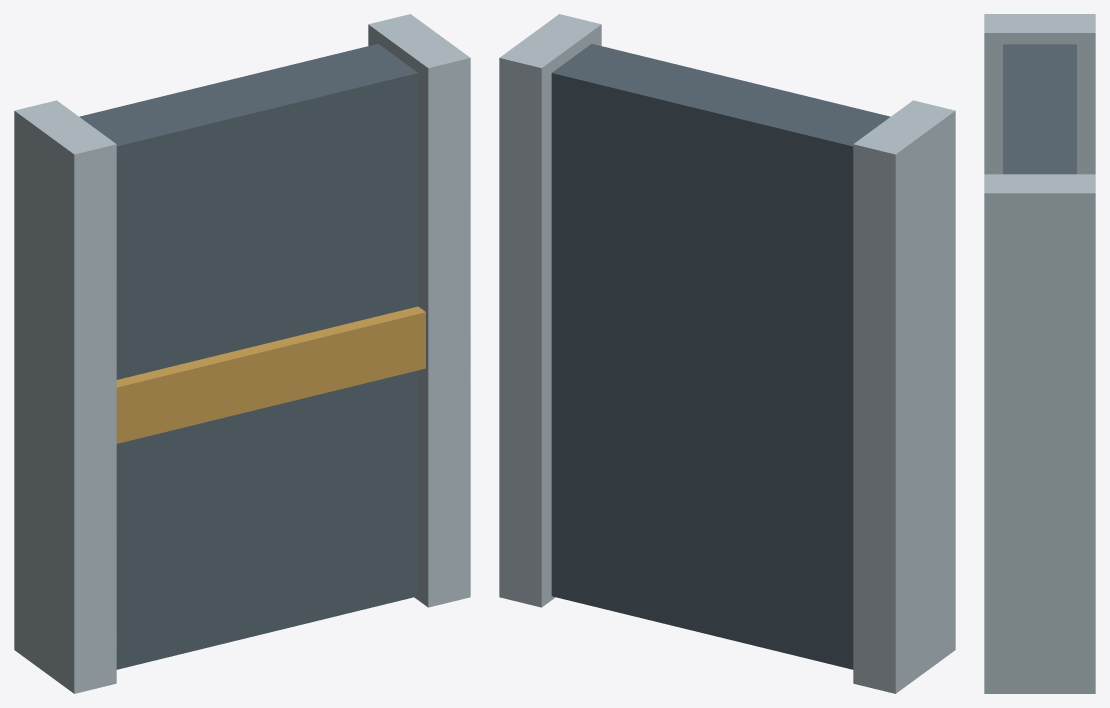
The model's file is wall.glb.
The picture shows the model from 3 angles, left to right: view 1: azimuth 30°, elevation 25°; view 2: azimuth 150°, elevation 25°; view 3: azimuth 270°, elevation 25°; orthographic projection. The views are drawn at different scales.
Visible parts, largest first — view 1: reinforced panel, vertical edge column, vertical edge column.001, center reinforcement; view 2: reinforced panel, vertical edge column, vertical edge column.001; view 3: vertical edge column.001, reinforced panel, vertical edge column.
Part boxes in pixels (x1,y1,x2,y2): reinforced panel: (79,44,418,669); vertical edge column: (14,100,116,693); vertical edge column.001: (368,14,470,607); center reinforcement: (116,306,425,443); reinforced panel: (551,44,890,669); vertical edge column: (853,100,955,693); vertical edge column.001: (499,14,601,607); vertical edge column.001: (984,174,1095,693); reinforced panel: (1003,44,1076,174); vertical edge column: (984,14,1095,174).
Bounding box in the file's own units: 1.03 × 1.34 × 0.27.
